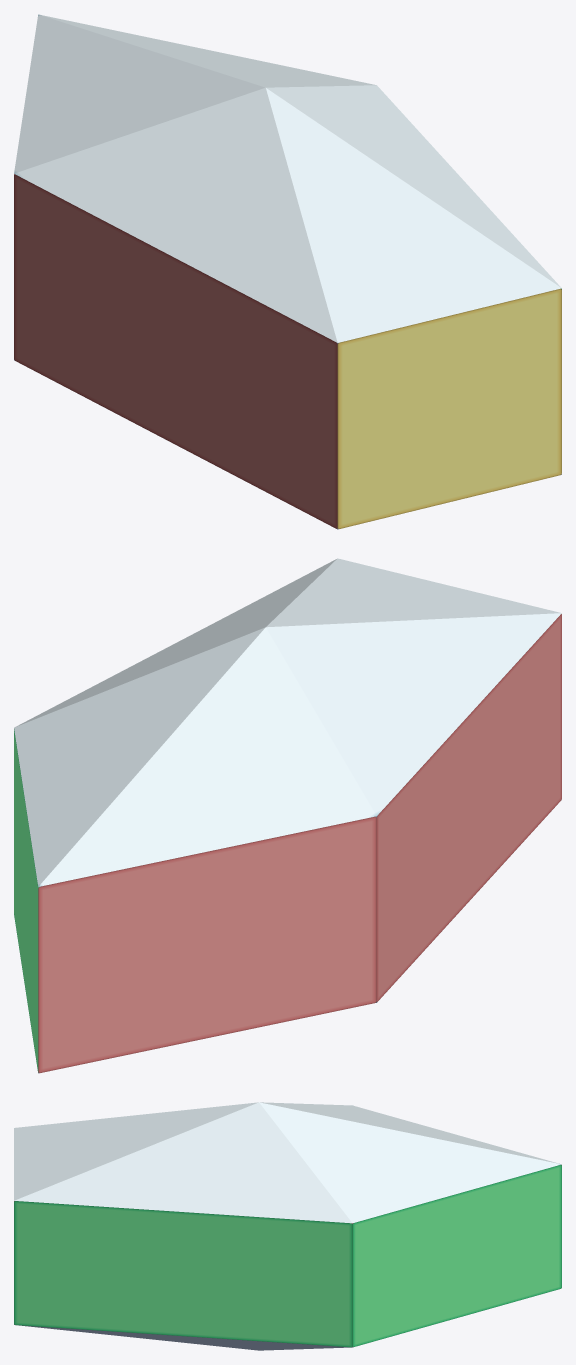
The model's file is fire.fbx.
The picture shows the model from 3 angles, top to bottom: view 1: azimuth 30°, elevation 25°; view 2: azimuth 150°, elevation 25°; view 3: azimuth 270°, elevation 25°; orthographic projection. The views are drawn at different scales.
Parts seen in each view (by area): view 1: sphere; view 2: sphere; view 3: sphere.
Boxes of the visible parts, bbox=[...] form: sphere: bbox=[14, 14, 561, 529]; sphere: bbox=[14, 558, 561, 1073]; sphere: bbox=[14, 1102, 561, 1350].
Size of the model in its own units: 19.09 by 18.75 by 37.5.
Materials: 1 (1 with a texture image).
